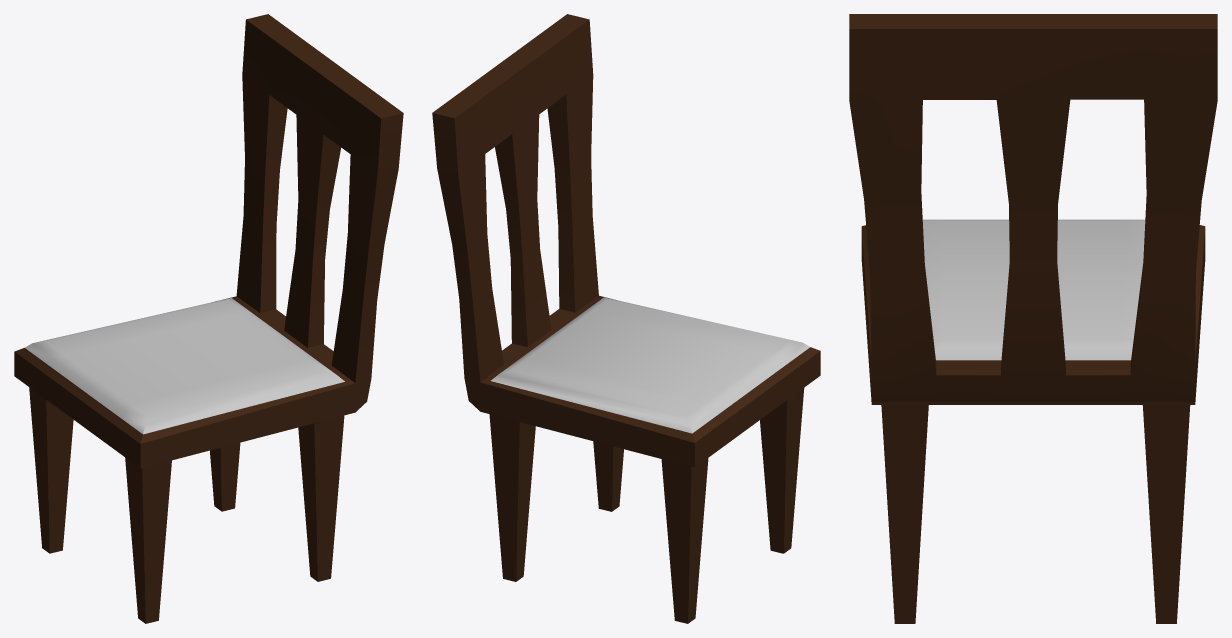
Rendered from chair.fbx.
The picture shows the model from 3 angles, left to right: view 1: azimuth 30°, elevation 25°; view 2: azimuth 150°, elevation 25°; view 3: azimuth 270°, elevation 25°; orthographic projection. The views are drawn at different scales.
Parts seen in each view (by area): view 1: Chair; view 2: Chair; view 3: Chair.
Boxes of the visible parts, x1,y1,x2,y2 form: Chair: (14,14,403,623); Chair: (432,14,820,623); Chair: (849,14,1217,623).
Bounding box in the file's own units: 45.13 × 49.77 × 85.4.
